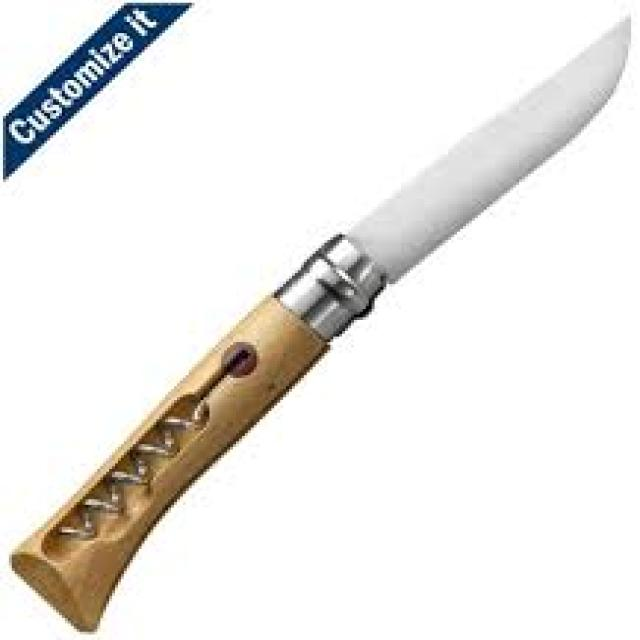knives: (3, 3, 637, 634), (11, 13, 630, 634)
